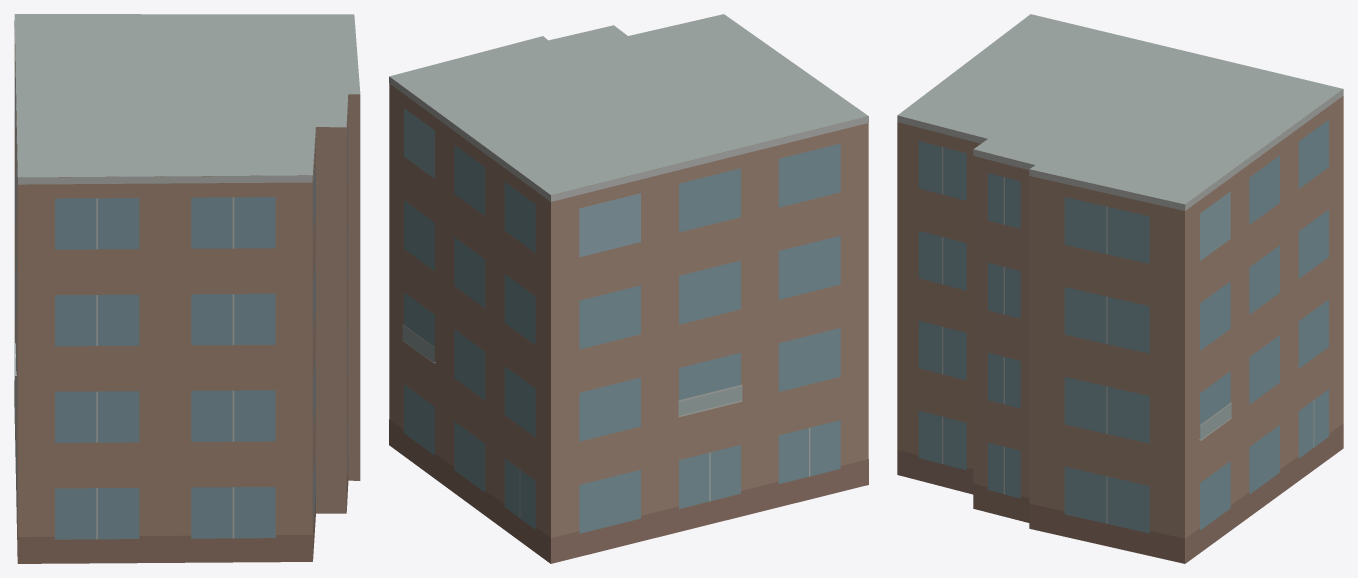
File: survey-upis-32722729.glb
3 views of the same model, side by side, from view 1: azimuth 30°, elevation 25°; view 2: azimuth 150°, elevation 25°; view 3: azimuth 270°, elevation 25° (orthographic). The views are drawn at different scales.
Parts seen in each view (by area): view 1: survey-upis-32722729.tmp; view 2: survey-upis-32722729.tmp; view 3: survey-upis-32722729.tmp.
Part boxes in pixels (left/top/right/bottom): survey-upis-32722729.tmp: left=14, top=14, right=360, bottom=563; survey-upis-32722729.tmp: left=389, top=14, right=868, bottom=563; survey-upis-32722729.tmp: left=897, top=14, right=1343, bottom=563.
Size of the model in its own units: 15.01 by 13.2 by 14.86.
